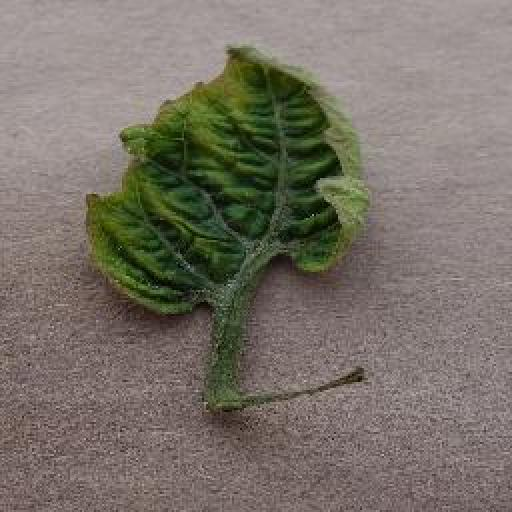disease_tomato: (86, 42, 374, 314)
